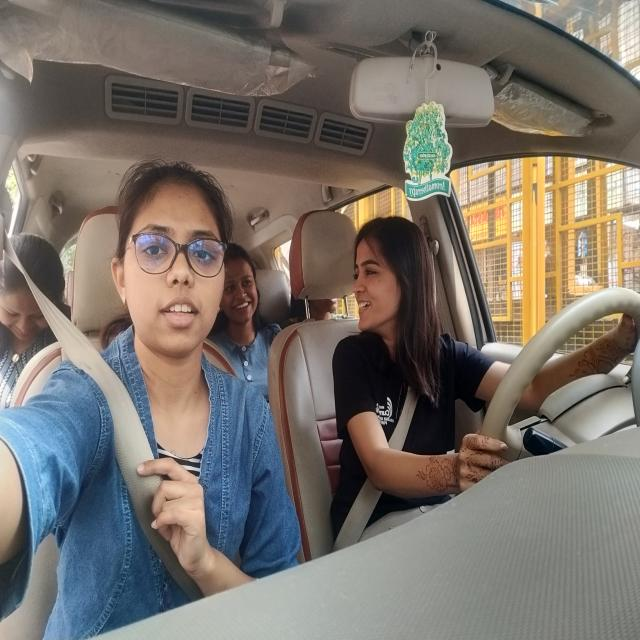LeftRight: (339, 218, 442, 342)
person: (114, 152, 234, 362), (0, 231, 65, 346), (233, 251, 264, 330)
talking: (352, 297, 376, 314)
